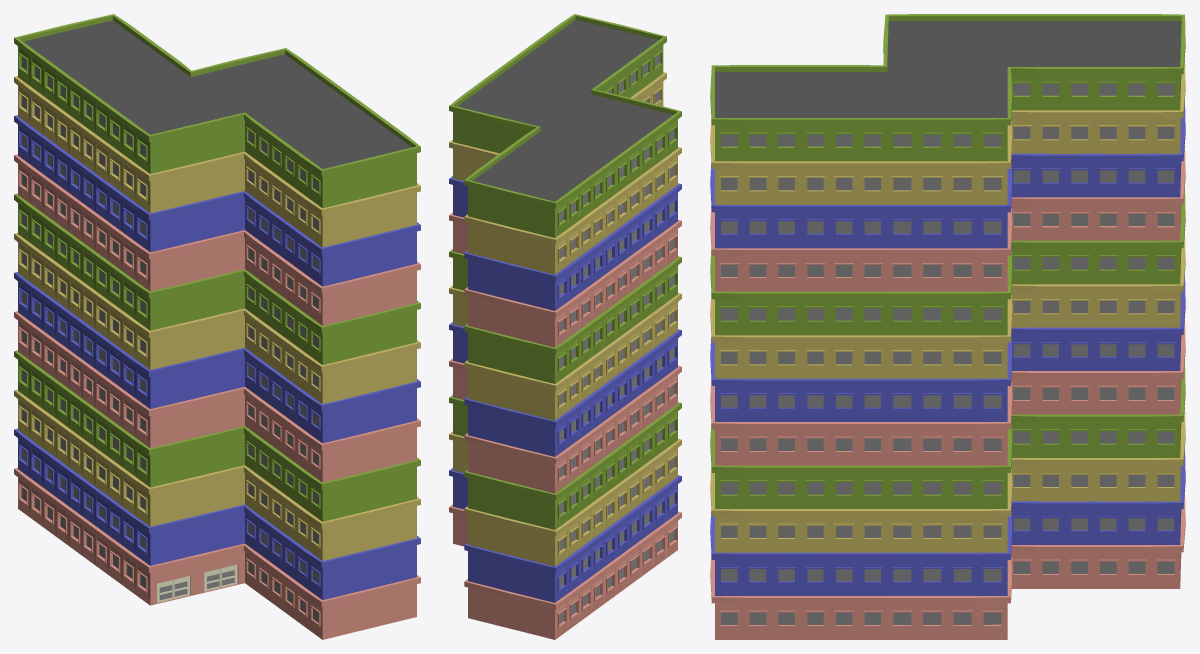
The model's file is Building3.fbx.
3 views of the same model, side by side, from view 1: azimuth 30°, elevation 25°; view 2: azimuth 150°, elevation 25°; view 3: azimuth 270°, elevation 25° (orthographic). The views are drawn at different scales.
Visible parts, largest first — view 1: Building; view 2: Building; view 3: Building.
Part boxes in pixels (x1=…): Building: x1=14, y1=14, x2=420, y2=639; Building: x1=449, y1=14, x2=681, y2=639; Building: x1=710, y1=14, x2=1185, y2=639.
Bounding box in the file's own units: 2910 × 6694 × 5522.
